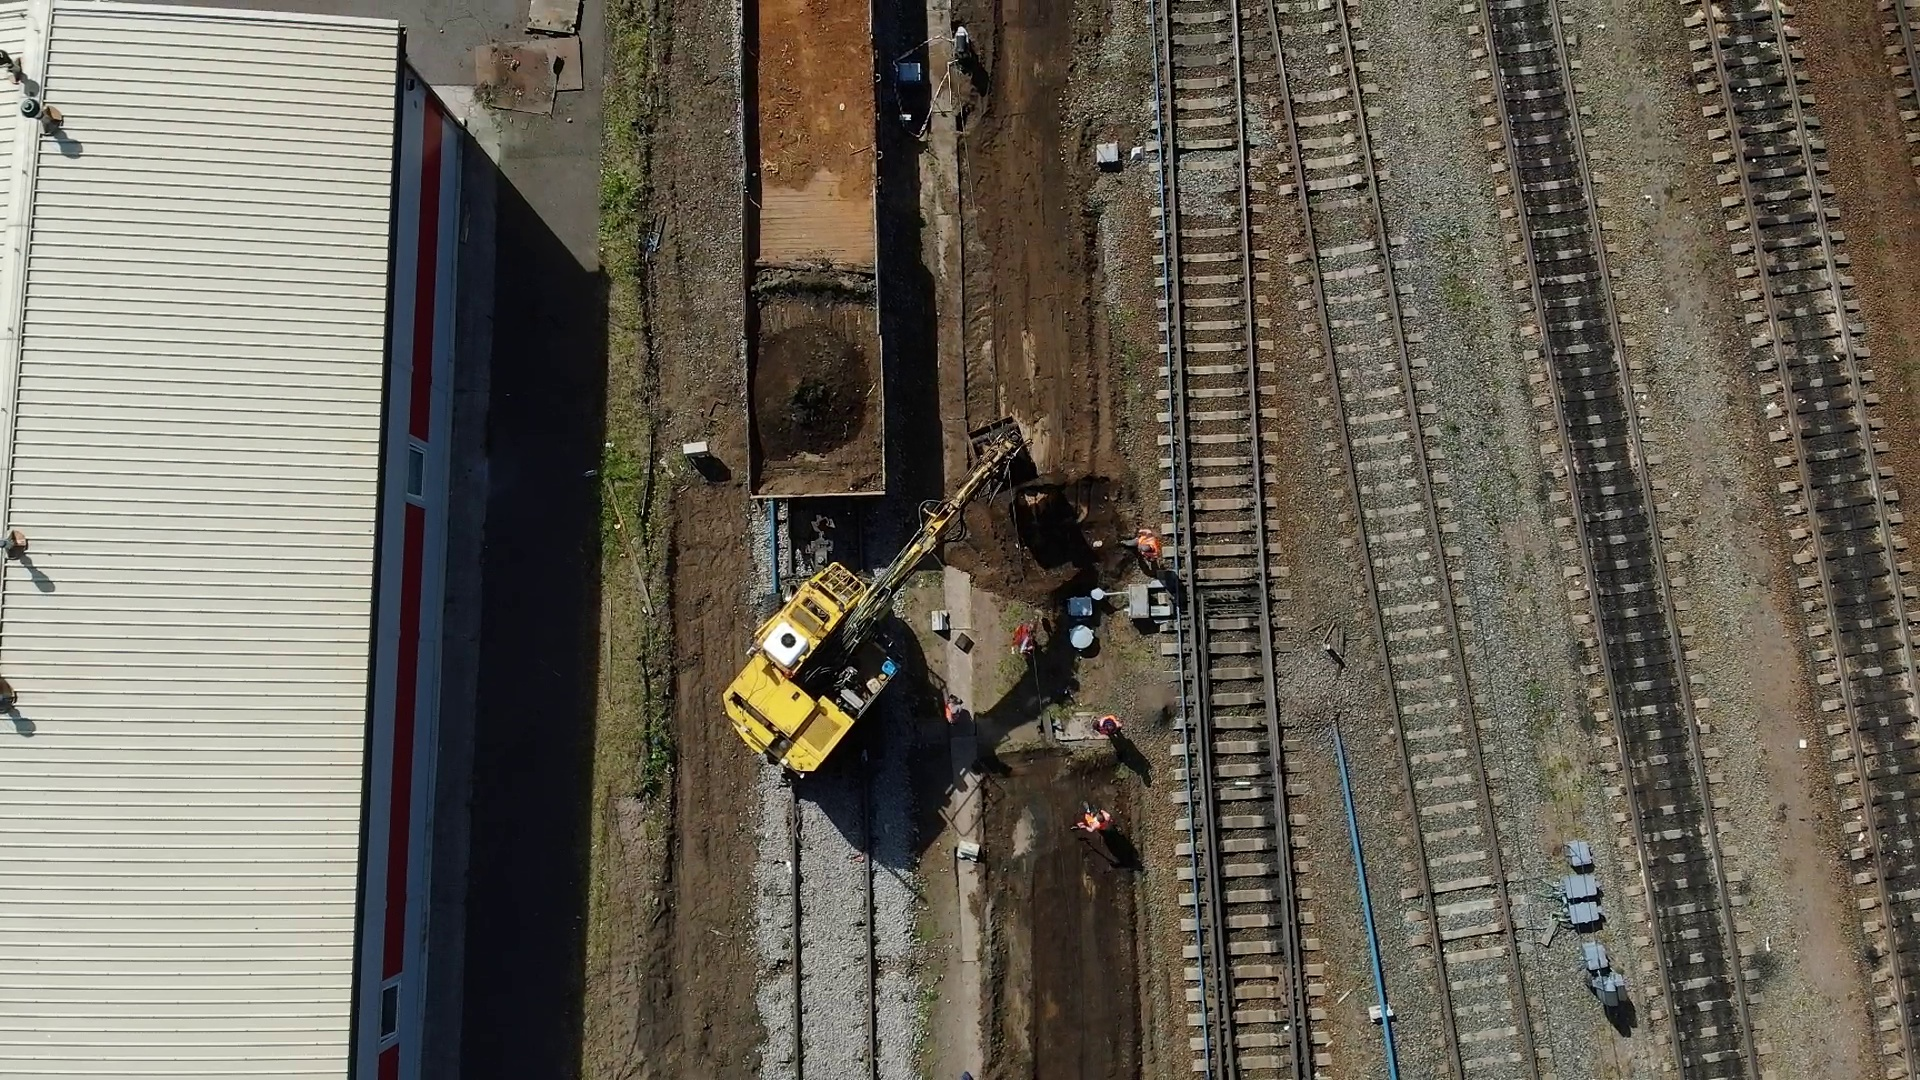kjtv: (727, 529, 938, 775)
